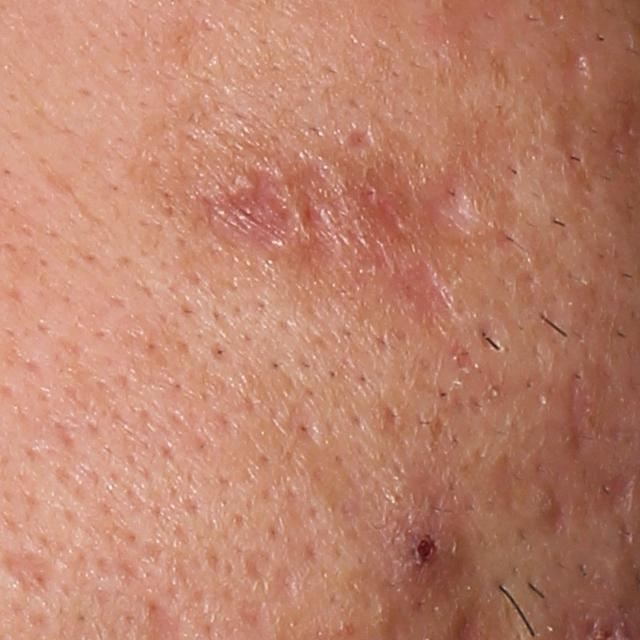atrophic_scar: (198, 153, 514, 313), (545, 44, 600, 181), (559, 352, 608, 473), (1, 549, 69, 616), (534, 485, 571, 532), (476, 316, 512, 355), (350, 129, 376, 150)
papule: (396, 505, 460, 583)
